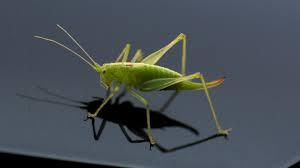insect: (30, 16, 235, 149)
